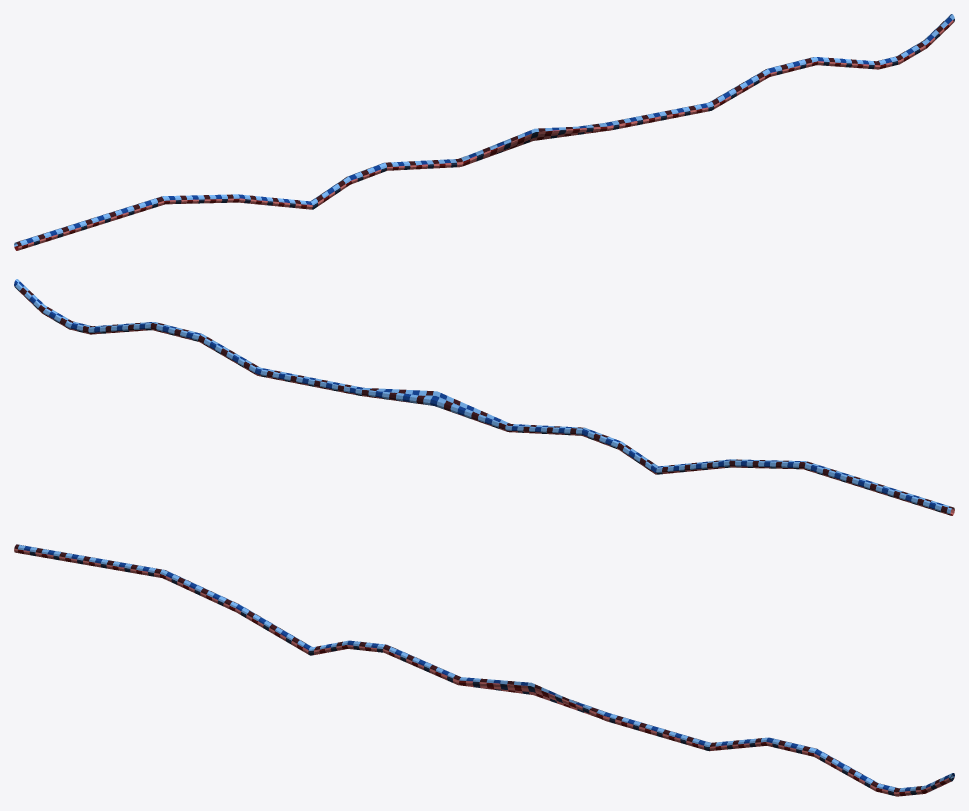
The model's file is Wire_med_03.fbx.
3 renders of one model, top to bottom at view 1: azimuth 30°, elevation 25°; view 2: azimuth 150°, elevation 25°; view 3: azimuth 330°, elevation 25°, orthographic.
Parts seen in each view (by area): view 1: wire_medium_03; view 2: wire_medium_03; view 3: wire_medium_03.
Boxes of the visible parts, bbox=[...] form: wire_medium_03: bbox=[14, 14, 954, 250]; wire_medium_03: bbox=[14, 279, 954, 515]; wire_medium_03: bbox=[14, 544, 954, 796].
Size of the model in its own units: 500 by 25.32 by 4.19.
Materials: 1 (1 with a texture image).
